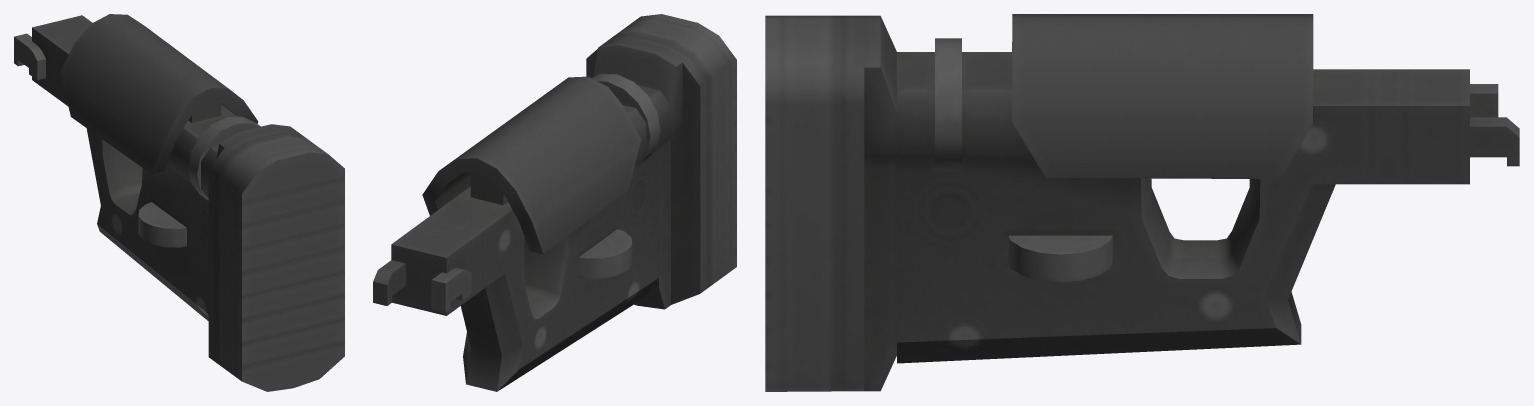
File: IG_Acc_Stock_SNP_SCA_4.fbx
3 renders of one model, left to right at view 1: azimuth 30°, elevation 25°; view 2: azimuth 150°, elevation 25°; view 3: azimuth 270°, elevation 25°, orthographic. The views are drawn at different scales.
Parts seen in each view (by area): view 1: Stock_SNP_SCA_4; view 2: Stock_SNP_SCA_4; view 3: Stock_SNP_SCA_4.
Part boxes in pixels (x1,y1,x2,y2): Stock_SNP_SCA_4: (14,14,344,391); Stock_SNP_SCA_4: (373,14,736,391); Stock_SNP_SCA_4: (765,14,1519,391).
Bounding box in the file's own units: 0.0831 × 0.1846 × 0.353.
Materials: 1 (1 with a texture image).
